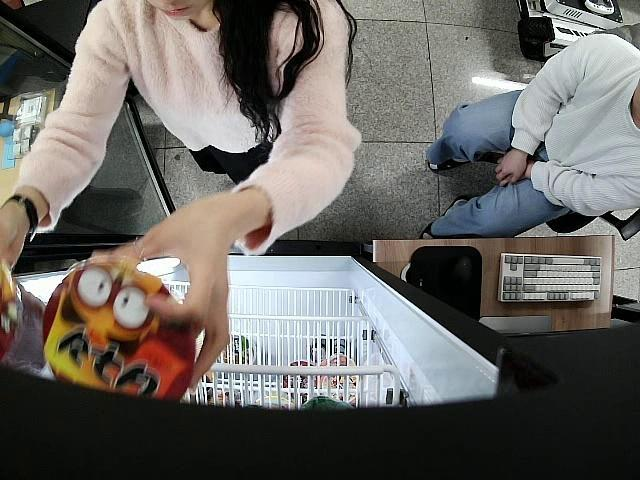05_nuguri_L: (40, 259, 199, 402)
